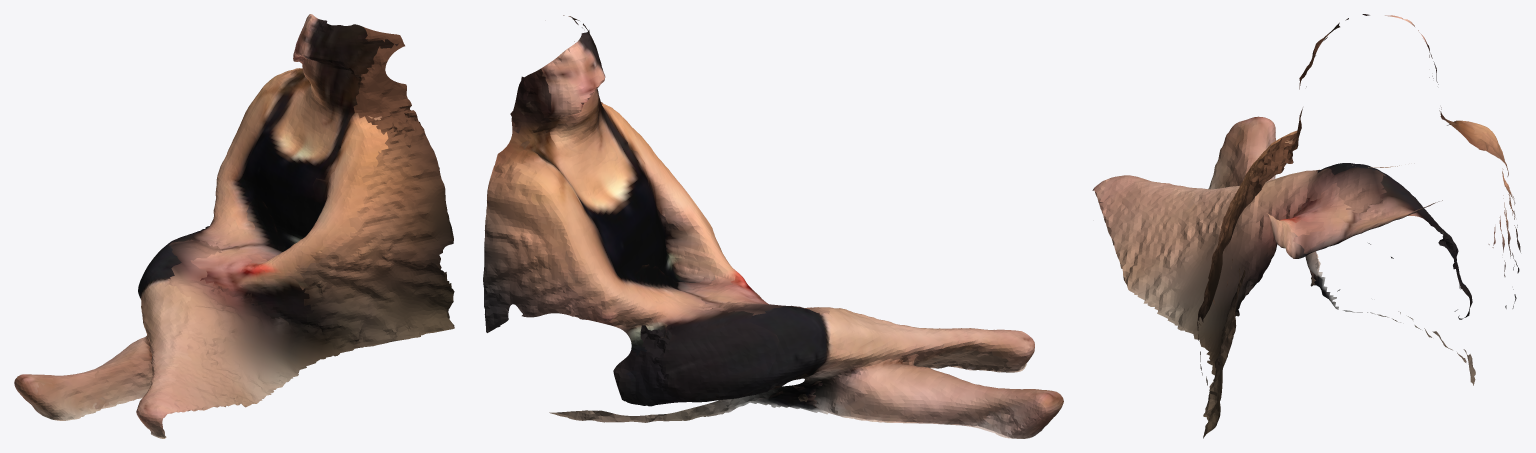
3 renders of one model, left to right at view 1: azimuth 30°, elevation 25°; view 2: azimuth 150°, elevation 25°; view 3: azimuth 270°, elevation 25°, orthographic. The views are drawn at different scales.
Size of the model in its own units: 1.09 by 0.6984 by 0.7181.
1 material, 1 textured.
